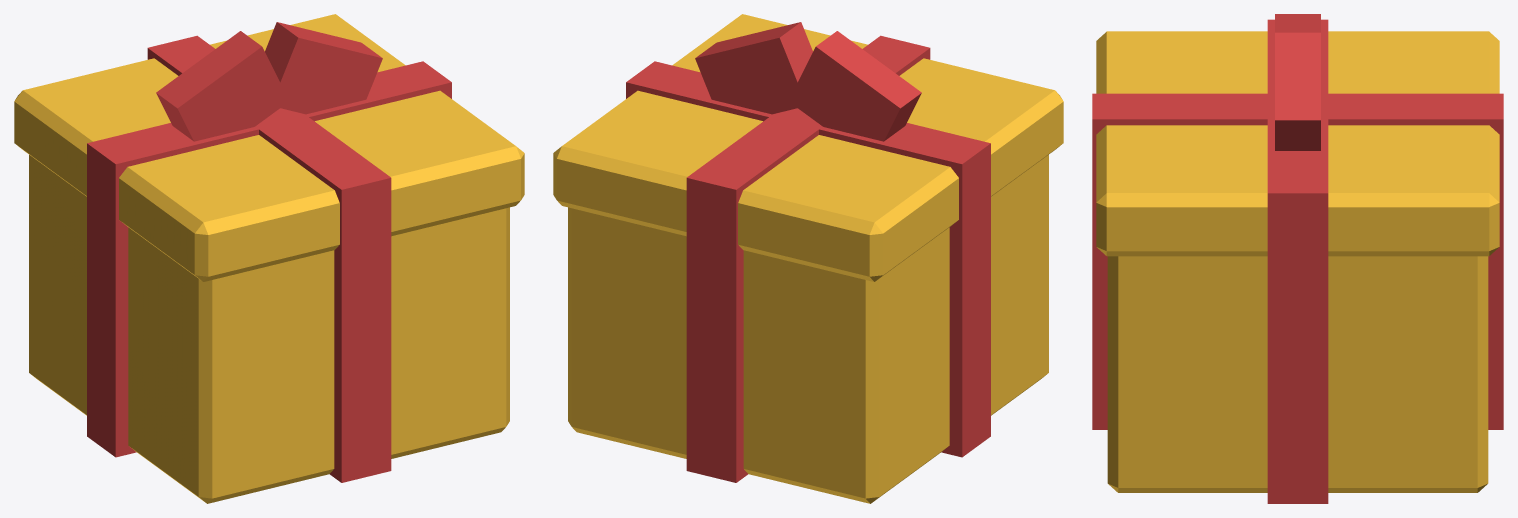
File: GoldGift.fbx
3 views of the same model, side by side, from view 1: azimuth 30°, elevation 25°; view 2: azimuth 150°, elevation 25°; view 3: azimuth 270°, elevation 25° (orthographic). The views are drawn at different scales.
Parts seen in each view (by area): view 1: GoldGift; view 2: GoldGift; view 3: GoldGift.
Part boxes in pixels (x1,y1,x2,y2): GoldGift: (14, 14, 524, 503); GoldGift: (553, 14, 1063, 503); GoldGift: (1092, 14, 1503, 503).
Size of the model in its own units: 1.94 by 2.05 by 1.94.
Materials: 1 (1 with a texture image).
